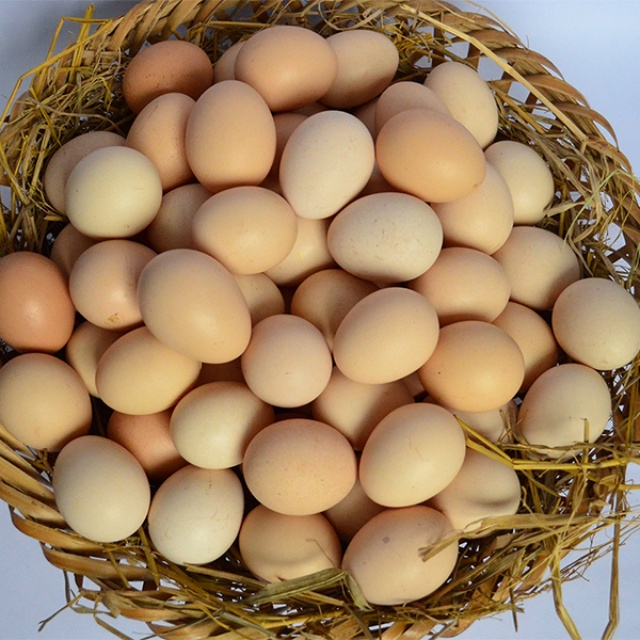trung_ga: (136, 246, 254, 365), (338, 502, 459, 608), (240, 417, 361, 519), (357, 401, 468, 508), (276, 107, 378, 221), (372, 104, 488, 204), (146, 461, 251, 571), (322, 189, 443, 284), (50, 431, 151, 544), (332, 286, 441, 385), (182, 76, 279, 185), (91, 324, 203, 417), (187, 184, 300, 276), (420, 318, 527, 415), (514, 362, 614, 465), (167, 379, 274, 475), (1, 348, 96, 452), (60, 145, 164, 239), (231, 23, 340, 112), (236, 498, 343, 586), (237, 311, 332, 410), (431, 444, 526, 540), (549, 275, 640, 373), (1, 248, 80, 360), (429, 157, 518, 256), (123, 90, 209, 192), (410, 244, 512, 327), (492, 221, 584, 313), (66, 238, 157, 329), (311, 27, 400, 110), (117, 37, 217, 107), (423, 59, 499, 146), (483, 138, 555, 225)
